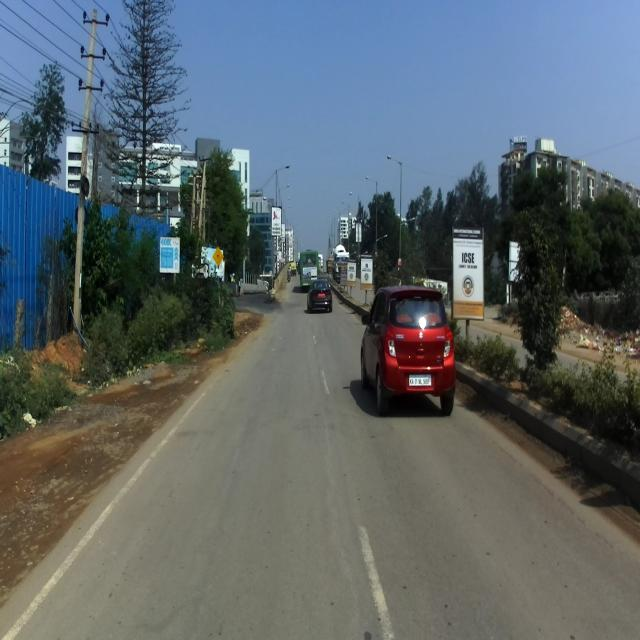Car_BMW: (306, 278, 332, 313)
Car_Maruti-Suzuki: (360, 285, 456, 417)
bus: (299, 248, 319, 292)
